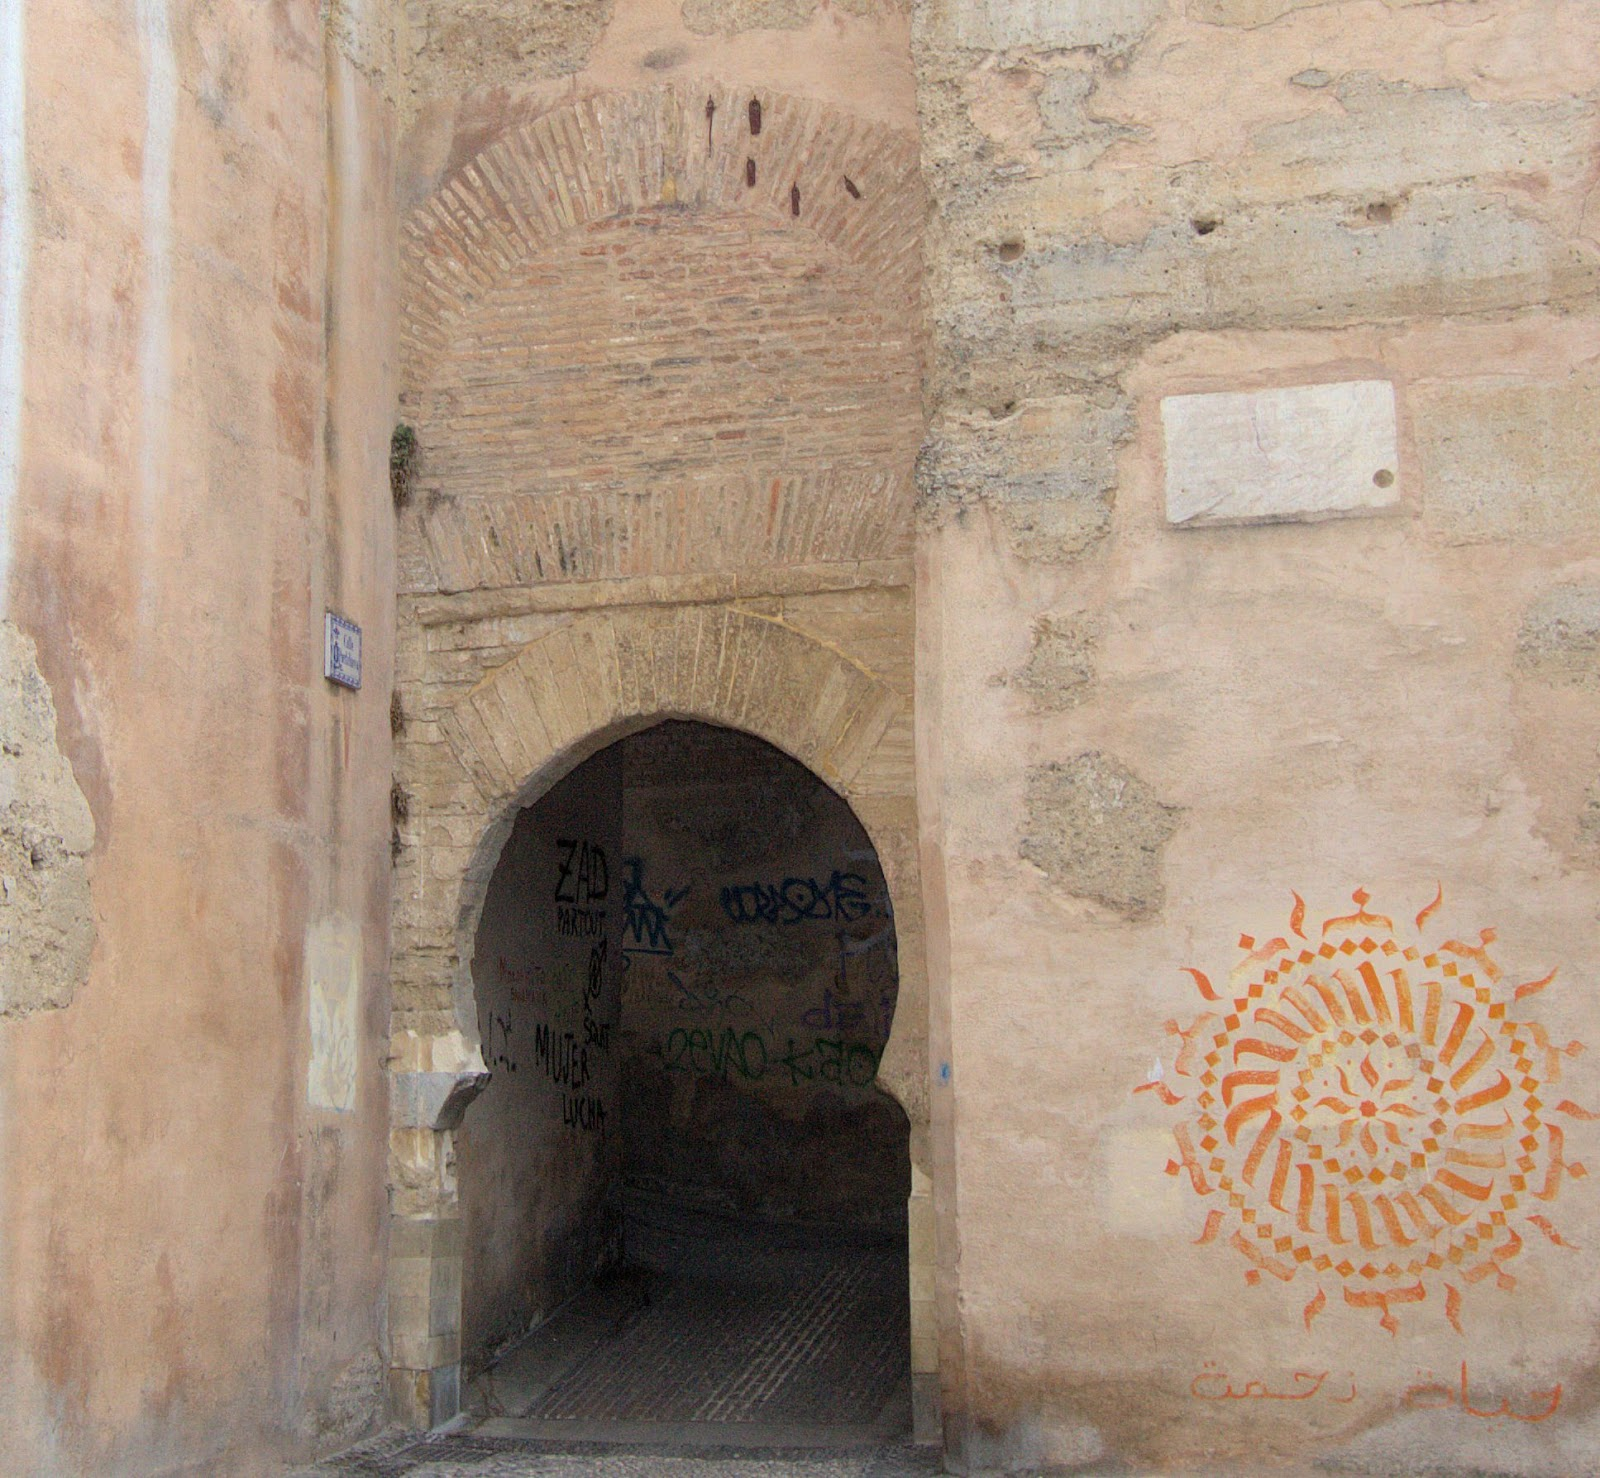arco-herradura: (417, 685, 935, 1150)
